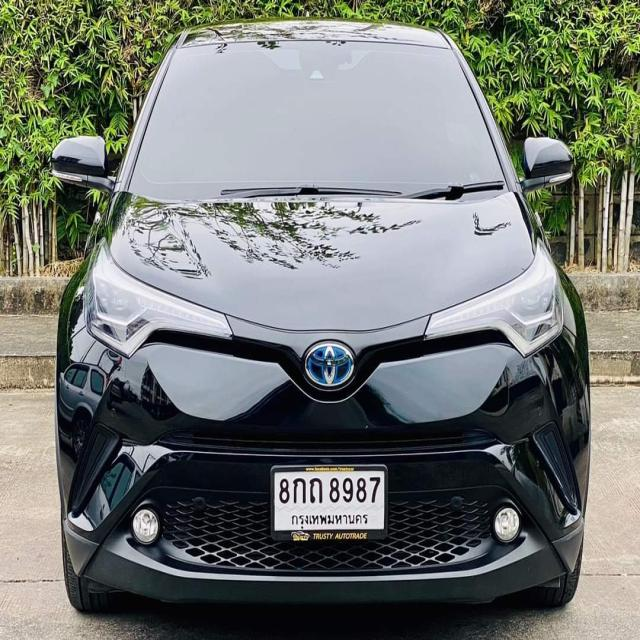license_plate: (270, 459, 390, 542)
